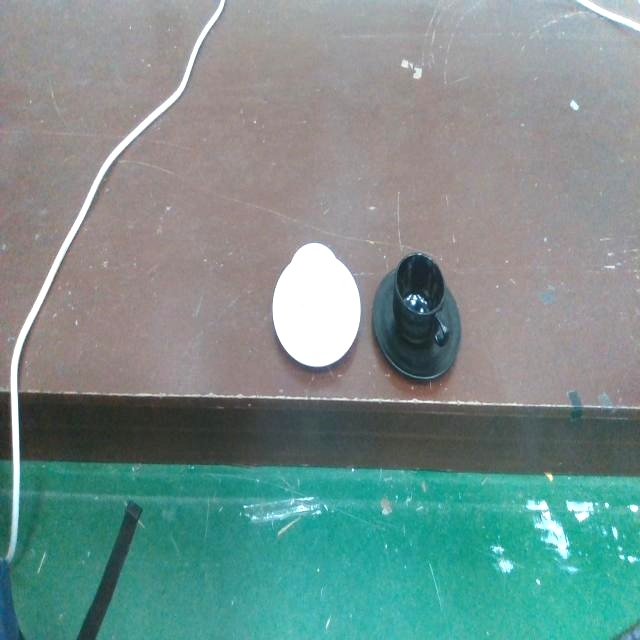black: (371, 249, 462, 384)
white: (270, 241, 362, 371)
